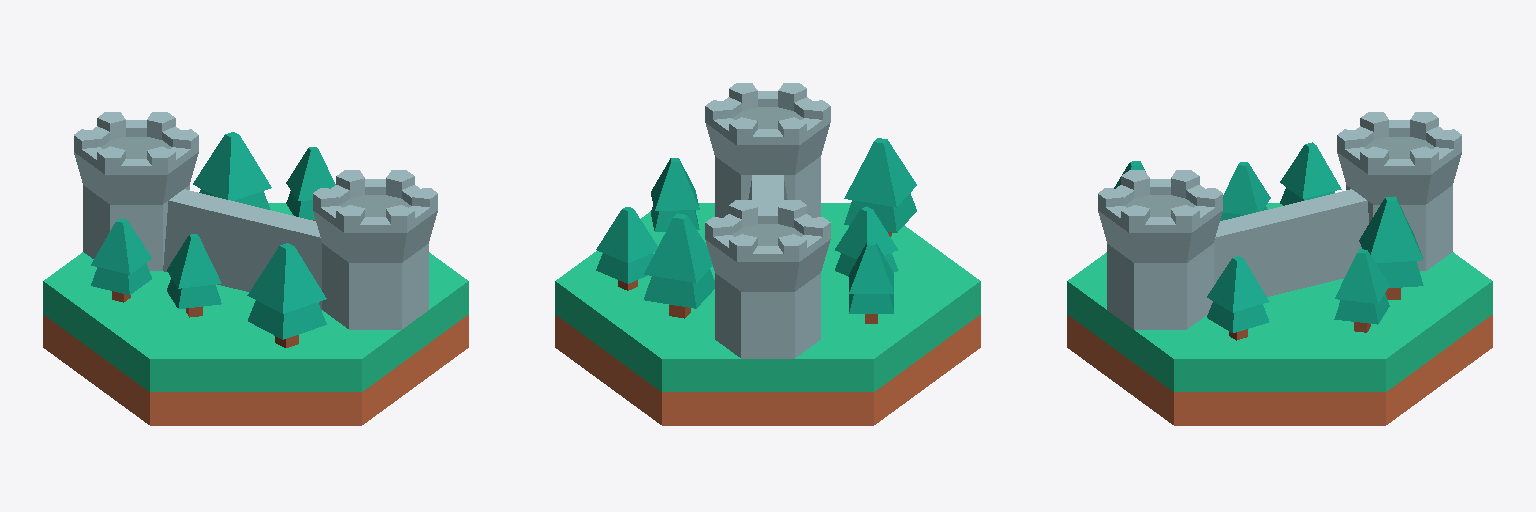
File: building_wall.obj
3 views of the same model, side by side, from view 1: azimuth 30°, elevation 25°; view 2: azimuth 150°, elevation 25°; view 3: azimuth 270°, elevation 25° (orthographic).
Visible parts, largest first — view 1: building_wall, tower, tree, wall; view 2: building_wall, tower, tree, wall; view 3: building_wall, tower, tree, wall.
Part boxes in pixels (x1,y1,x2,y2): building_wall: (43,203,468,425); tower: (74,112,437,329); tree: (91,132,335,347); wall: (163,189,321,309); building_wall: (555,203,980,425); tower: (705,83,830,358); tree: (596,138,916,323); wall: (748,175,787,207); building_wall: (1067,203,1492,425); tower: (1098,112,1461,329); tree: (1114,142,1423,340); wall: (1214,189,1368,296).
Size of the model in its own units: 1 by 0.55 by 1.15.